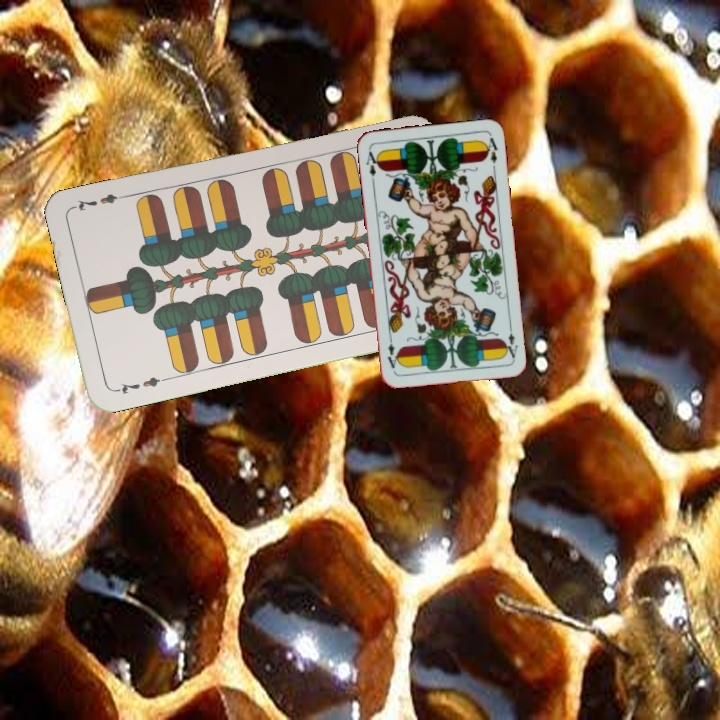E7: (110, 372, 169, 397)
EA: (500, 321, 521, 361), (362, 145, 382, 185)
